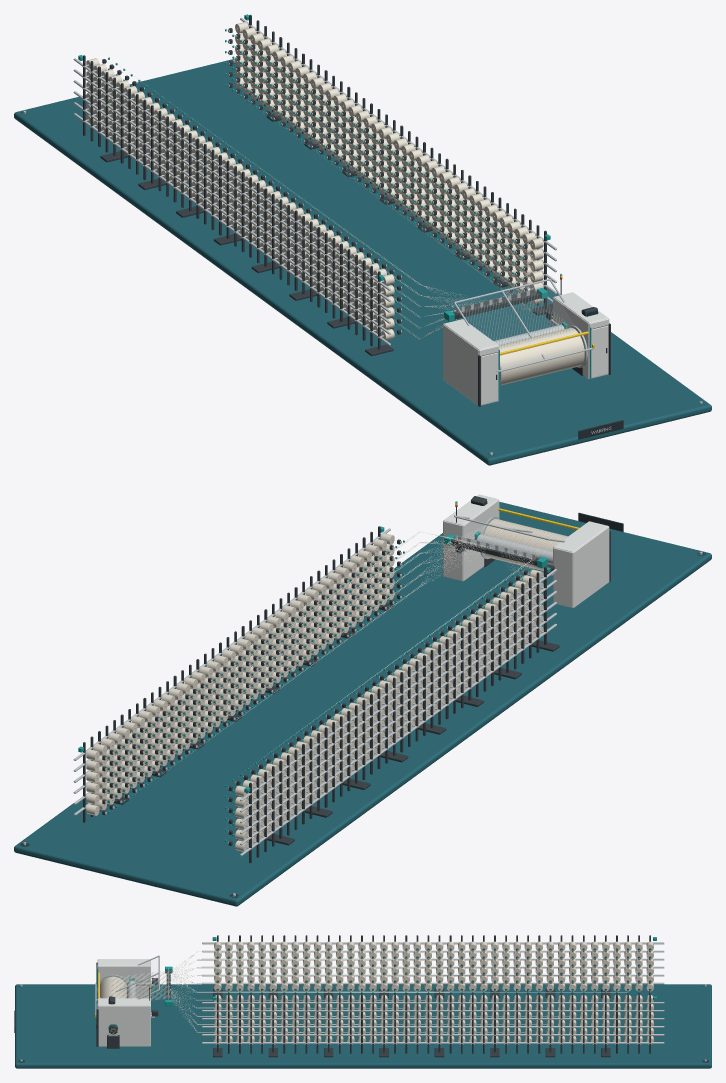
Rendered from warping.glb.
3 renders of one model, top to bottom at view 1: azimuth 30°, elevation 25°; view 2: azimuth 150°, elevation 25°; view 3: azimuth 270°, elevation 25°, orthographic. The views are drawn at different scales.
Visible parts, largest first — view 1: base_skid, working_roll, warper_side_pod_side, creel_level_rail.001, creel_level_rail.002, creel_level_rail.003, creel_level_rail, creel_level_rail.004, creel_level_rail.005, service_door, service_door.001, creel_level_rail.011 (+2 smaller); view 2: base_skid, warper_side_pod_side, working_roll, warper_side_pod_rear, creel_level_rail.005, creel_level_rail.004, creel_level_rail.001, creel_level_rail.003, warper_side_pod_side.002, creel_level_rail, creel_level_rail.002, warper_side_pod_rear.001 (+3 smaller); view 3: base_skid, warper_side_pod_side.003, creel_level_rail.009, creel_level_rail.010, creel_level_rail.011, creel_level_rail.008, creel_level_rail.007, creel_level_rail.006, warper_side_pod_side.001, creel_level_rail.005, creel_level_rail, creel_level_rail.001 (+14 smaller).
Boxes of the visible parts, box(x1,y1,x2,y2) form: base_skid: box(14, 58, 711, 465); working_roll: box(499, 327, 584, 385); warper_side_pod_side: box(443, 324, 478, 405); creel_level_rail.001: box(73, 102, 390, 334); creel_level_rail.002: box(73, 91, 390, 323); creel_level_rail.003: box(73, 80, 390, 312); creel_level_rail: box(73, 113, 390, 345); creel_level_rail.004: box(73, 69, 390, 301); creel_level_rail.005: box(73, 58, 390, 290); service_door: box(481, 352, 498, 404); service_door.001: box(591, 325, 608, 377); creel_level_rail.011: box(240, 17, 556, 250); base_skid: box(14, 502, 711, 906); warper_side_pod_side: box(573, 526, 609, 607); working_roll: box(484, 519, 567, 570); warper_side_pod_rear: box(553, 548, 573, 607); creel_level_rail.005: box(240, 569, 556, 801); creel_level_rail.004: box(240, 580, 556, 812); creel_level_rail.001: box(240, 613, 556, 845); creel_level_rail.003: box(240, 591, 556, 823); warper_side_pod_side.002: box(463, 500, 499, 581); creel_level_rail: box(240, 623, 556, 856); creel_level_rail.002: box(240, 602, 556, 834); warper_side_pod_rear.001: box(443, 521, 463, 581); base_skid: box(15, 984, 711, 1068); warper_side_pod_side.003: box(98, 1005, 150, 1046); creel_level_rail.009: box(202, 1018, 664, 1019); creel_level_rail.010: box(202, 1010, 664, 1011); creel_level_rail.011: box(202, 1002, 664, 1003); creel_level_rail.008: box(202, 1026, 664, 1027); creel_level_rail.007: box(202, 1034, 664, 1035); creel_level_rail.006: box(202, 1042, 664, 1043); warper_side_pod_side.001: box(98, 966, 150, 998); creel_level_rail.005: box(202, 942, 664, 944); creel_level_rail: box(202, 982, 664, 984); creel_level_rail.001: box(202, 974, 664, 976).
Size of the model in its own units: 6 by 2.22 by 22.04.
